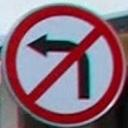NoVirarEsquerda: (7, 3, 124, 125)
